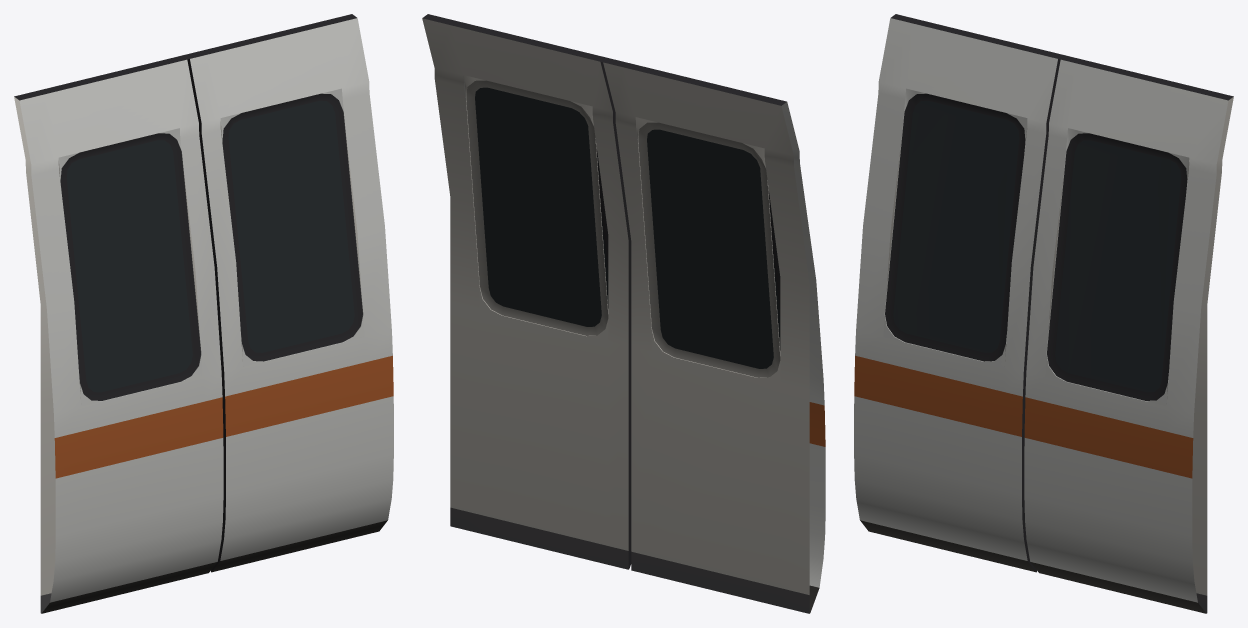
Rendered from train_door.glb.
3 views of the same model, side by side, from view 1: azimuth 30°, elevation 25°; view 2: azimuth 150°, elevation 25°; view 3: azimuth 330°, elevation 25° (orthographic). The views are drawn at different scales.
Visible parts, largest first — view 1: train_door; view 2: train_door; view 3: train_door.
Boxes of the visible parts, x1,y1,x2,y2 form: train_door: (14,14,393,613); train_door: (422,14,825,613); train_door: (854,14,1233,613).
Size of the model in its own units: 1.6 by 2.25 by 0.3425.
